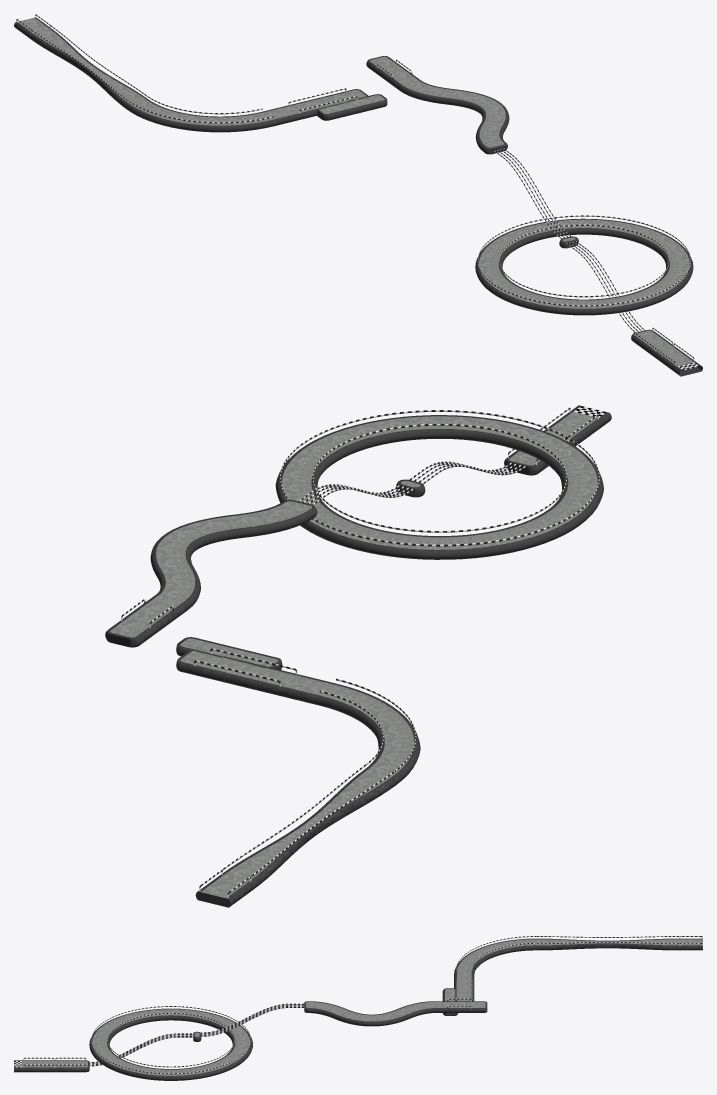
The model's file is map15.fbx.
3 views of the same model, one above another, from view 1: azimuth 30°, elevation 25°; view 2: azimuth 150°, elevation 25°; view 3: azimuth 270°, elevation 25° (orthographic). The views are drawn at different scales.
Parts seen in each view (by area): view 1: Terrain_Left_Flat_2, Terrain_Left_Flat_Bar_4, Terrain_Right_Flat_Bar_5__1_, Terrain_Right_Flat_Bar_5__3_, Terrain_Flat_Narrow_Bar_2, Terrain_Right_Flat_Bar_5, Terrain_Right_Flat_Bar_5__2_, Terrain_Flat_Bar_11, Terrain_Flat_BarEnd_2, Terrain_Flat_BarStart_2, Terrain_CurveUp_Bar_2__1_, Terrain_CurveUp_Bar_2; view 2: Terrain_Left_Flat_2, Terrain_Right_Flat_Bar_5__2_, Terrain_Right_Flat_Bar_5, Terrain_Flat_Narrow_Bar_2, Terrain_Left_Flat_Bar_4, Terrain_Right_Flat_Bar_5__1_, Terrain_Right_Flat_Bar_5__3_, Terrain_Flat_BarEnd_2, Terrain_Flat_Bar_11, Terrain_Flat_BarStart_2, Dummy_Start_1, Terrain_CurveUp_Bar_2__1_; view 3: Terrain_Left_Flat_2, Terrain_Flat_Narrow_Bar_2, Terrain_Right_Flat_Bar_5, Terrain_Right_Flat_Bar_5__3_, Terrain_Right_Flat_Bar_5__1_, Terrain_Left_Flat_Bar_4, Terrain_Right_Flat_Bar_5__2_, Terrain_Flat_Bar_11, Terrain_CurveUp_Bar_2, Terrain_CurveUp_Bar_2__1_, Terrain_Flat_BarEnd_2, Dummy_Start_1 (+1 smaller).
Part boxes in pixels (x1,y1,x2,y2): Terrain_Left_Flat_2: [399, 80, 509, 151]; Terrain_Left_Flat_Bar_4: [125, 99, 274, 132]; Terrain_Right_Flat_Bar_5__1_: [490, 282, 638, 315]; Terrain_Right_Flat_Bar_5__3_: [531, 218, 676, 251]; Terrain_Flat_Narrow_Bar_2: [30, 29, 147, 108]; Terrain_Right_Flat_Bar_5: [626, 241, 693, 309]; Terrain_Right_Flat_Bar_5__2_: [475, 225, 543, 291]; Terrain_Flat_Bar_11: [367, 57, 420, 90]; Terrain_Flat_BarEnd_2: [299, 89, 363, 116]; Terrain_Flat_BarStart_2: [262, 103, 311, 126]; Terrain_CurveUp_Bar_2__1_: [653, 346, 696, 371]; Terrain_CurveUp_Bar_2: [631, 331, 673, 356]; Terrain_Left_Flat_2: [150, 501, 316, 609]; Terrain_Right_Flat_Bar_5__2_: [358, 509, 581, 559]; Terrain_Right_Flat_Bar_5: [301, 415, 519, 464]; Terrain_Flat_Narrow_Bar_2: [223, 769, 397, 888]; Terrain_Left_Flat_Bar_4: [318, 684, 420, 783]; Terrain_Right_Flat_Bar_5__1_: [501, 424, 603, 524]; Terrain_Right_Flat_Bar_5__3_: [275, 449, 376, 550]; Terrain_Flat_BarEnd_2: [180, 651, 281, 691]; Terrain_Flat_Bar_11: [108, 594, 188, 644]; Terrain_Flat_BarStart_2: [262, 670, 336, 705]; Dummy_Start_1: [195, 874, 254, 907]; Terrain_CurveUp_Bar_2__1_: [544, 411, 603, 446]; Terrain_Left_Flat_2: [308, 1001, 435, 1026]; Terrain_Flat_Narrow_Bar_2: [536, 938, 678, 950]; Terrain_Right_Flat_Bar_5: [89, 1042, 171, 1080]; Terrain_Right_Flat_Bar_5__3_: [171, 1042, 252, 1080]; Terrain_Right_Flat_Bar_5__1_: [89, 1008, 171, 1044]; Terrain_Left_Flat_Bar_4: [454, 938, 535, 973]; Terrain_Right_Flat_Bar_5__2_: [171, 1008, 252, 1043]; Terrain_Flat_Bar_11: [435, 1001, 483, 1012]; Terrain_CurveUp_Bar_2: [53, 1060, 85, 1072]; Terrain_CurveUp_Bar_2__1_: [22, 1060, 53, 1072]; Terrain_Flat_BarEnd_2: [454, 986, 474, 1001]; Dummy_Start_1: [679, 938, 702, 950].
Bounding box in the file's own units: 6742 × 1849 × 17319.
7 materials, 7 textured.
